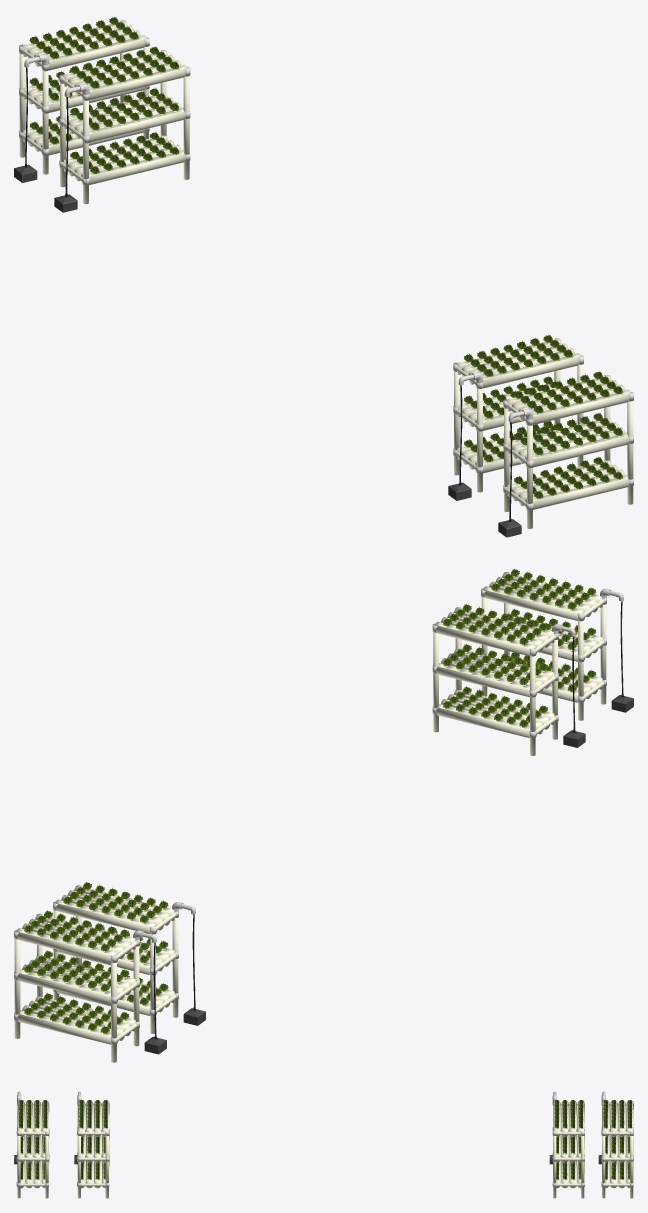
File: int_100.fbx
The picture shows the model from 3 angles, top to bottom: view 1: azimuth 30°, elevation 25°; view 2: azimuth 150°, elevation 25°; view 3: azimuth 270°, elevation 25°; orthographic projection. The views are drawn at different scales.
Visible parts, largest first — view 1: Copia.001; view 2: Copia.001; view 3: Copia.001.
Boxes of the visible parts, x1=… form: Copia.001: x1=14, y1=17, x2=633, y2=537; Copia.001: x1=14, y1=569, x2=633, y2=1062; Copia.001: x1=14, y1=1091, x2=633, y2=1198.
Size of the model in its own units: 268 by 234 by 1823.
1 material, 1 textured.
